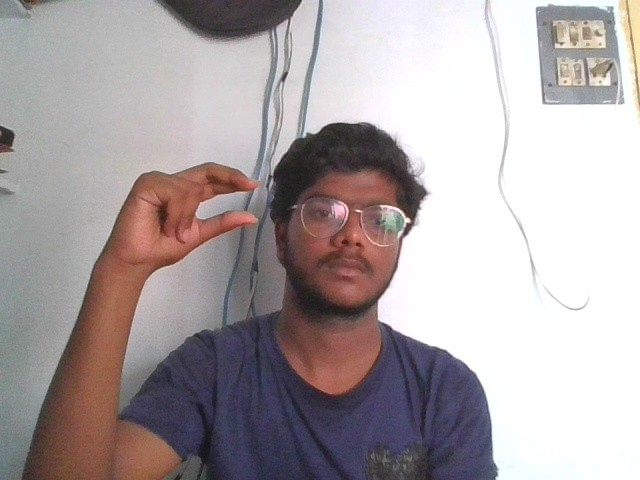No: (103, 153, 260, 269)
